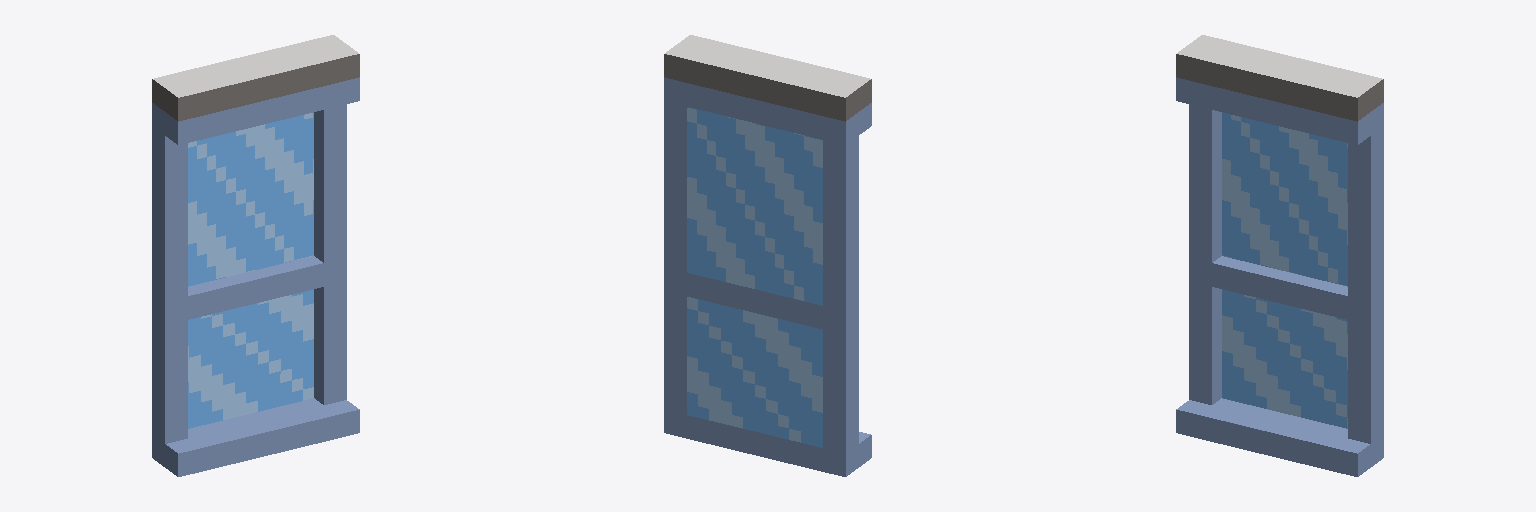
3 renders of one model, left to right at view 1: azimuth 30°, elevation 25°; view 2: azimuth 150°, elevation 25°; view 3: azimuth 330°, elevation 25°, orthographic.
Parts seen in each view (by area): view 1: Cube.005_Cube.006, Cube.007_Cube.008, Cube.003_Cube.004, Cube.001_Cube, Cube.004_Cube.005, Cube_Cube.002, Cube.002_Cube.003, Cube.006_Cube.007; view 2: Cube.005_Cube.006, Cube.007_Cube.008, Cube.003_Cube.004, Cube.001_Cube, Cube.004_Cube.005, Cube_Cube.002, Cube.002_Cube.003, Cube.006_Cube.007; view 3: Cube.005_Cube.006, Cube.007_Cube.008, Cube.004_Cube.005, Cube.001_Cube, Cube.003_Cube.004, Cube_Cube.002, Cube.002_Cube.003, Cube.006_Cube.007.
Part boxes in pixels (bbox=[...]): Cube.005_Cube.006: bbox=[188, 112, 313, 286]; Cube.007_Cube.008: bbox=[188, 289, 313, 428]; Cube.003_Cube.004: bbox=[152, 126, 187, 443]; Cube.001_Cube: bbox=[152, 35, 359, 121]; Cube.004_Cube.005: bbox=[314, 104, 346, 404]; Cube_Cube.002: bbox=[152, 398, 359, 476]; Cube.002_Cube.003: bbox=[152, 77, 359, 144]; Cube.006_Cube.007: bbox=[188, 256, 323, 319]; Cube.005_Cube.006: bbox=[687, 107, 822, 305]; Cube.007_Cube.008: bbox=[687, 297, 822, 447]; Cube.003_Cube.004: bbox=[823, 136, 858, 453]; Cube.001_Cube: bbox=[664, 35, 871, 121]; Cube.004_Cube.005: bbox=[664, 101, 686, 414]; Cube_Cube.002: bbox=[664, 410, 871, 476]; Cube.002_Cube.003: bbox=[664, 77, 871, 144]; Cube.006_Cube.007: bbox=[687, 273, 822, 329]; Cube.005_Cube.006: bbox=[1222, 112, 1347, 286]; Cube.007_Cube.008: bbox=[1222, 289, 1347, 428]; Cube.004_Cube.005: bbox=[1348, 126, 1383, 443]; Cube.001_Cube: bbox=[1176, 35, 1383, 121]; Cube.003_Cube.004: bbox=[1189, 104, 1221, 404]; Cube_Cube.002: bbox=[1176, 398, 1383, 476]; Cube.002_Cube.003: bbox=[1176, 77, 1383, 144]; Cube.006_Cube.007: bbox=[1212, 256, 1347, 319].
Bounding box in the file's own units: 0.8 × 1.6 × 0.2.
Materials: 4 (4 with a texture image).